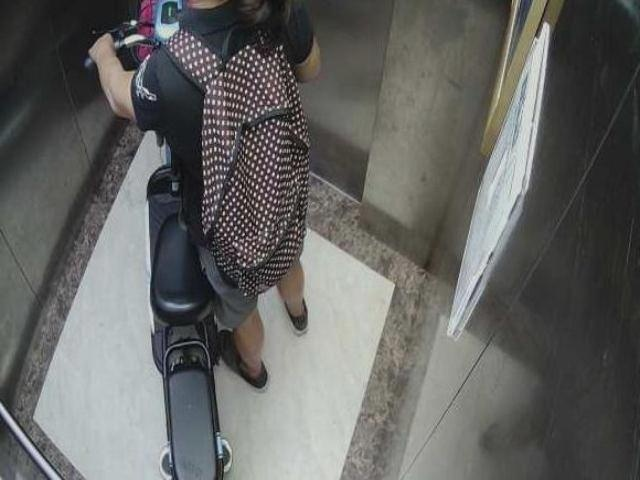bag: (191, 53, 311, 289)
